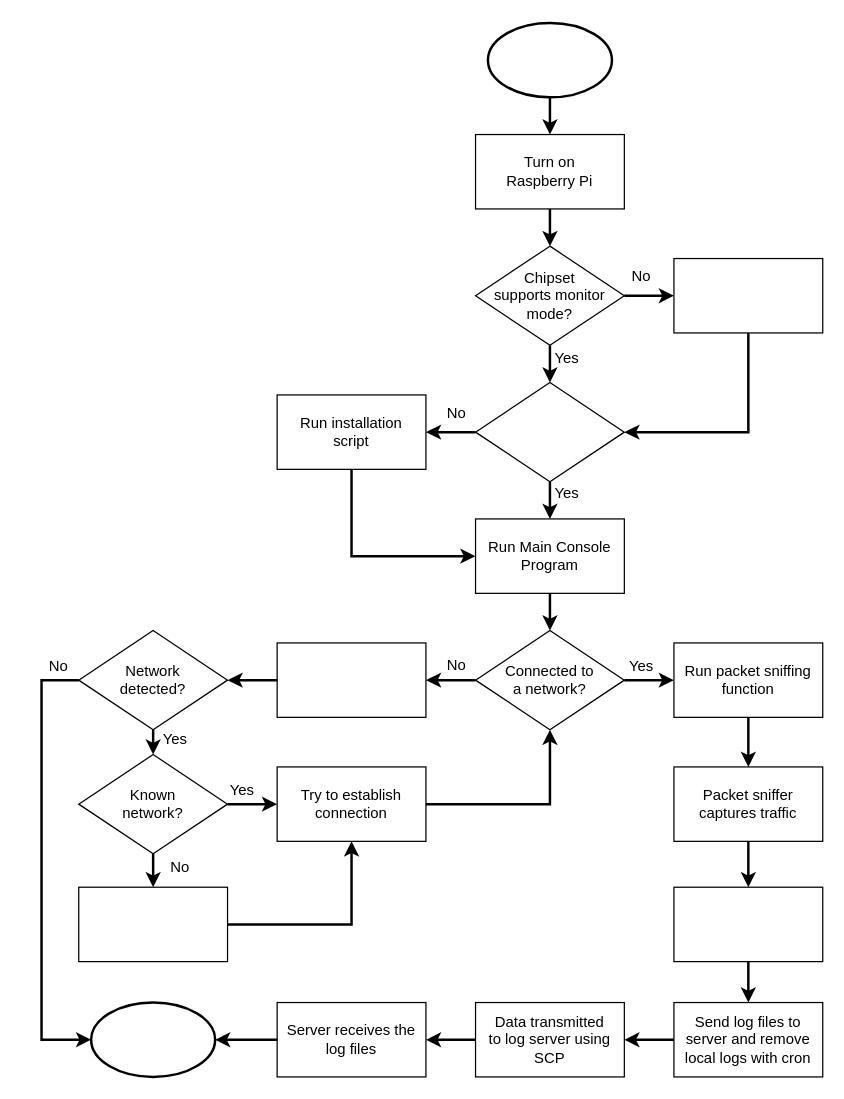
Image size: 844x1099. Some labels were removed from this diagram. The centre of each missing label's shape, as x and y in pixels:
Create new network profile: the point at 153,924
End: the point at 152,1039
Run firmware patching script: the point at 748,295
Run network scanning function: the point at 351,679
Start: the point at 549,59
Tools installed?: the point at 549,431
Write packet capture results to a txt file: the point at 748,924
